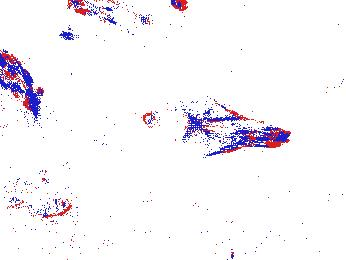X-ray fish: (5, 168, 73, 209)
redtail glassfish: (181, 108, 293, 152), (65, 1, 153, 34), (142, 103, 206, 132)
